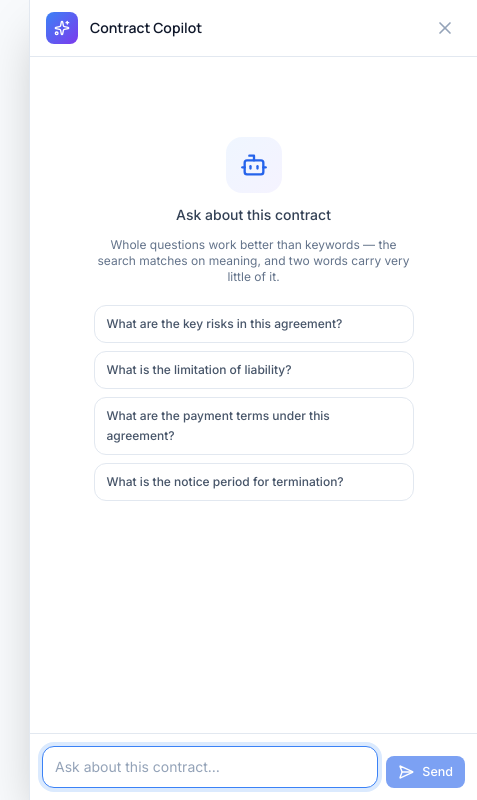
it: CopilotDrawer › renders a risk list as list items rather than a wall of text
Type "What are the key risks in this agreement?" into the text box named "your question" at (210, 767), box [42, 746, 378, 788]
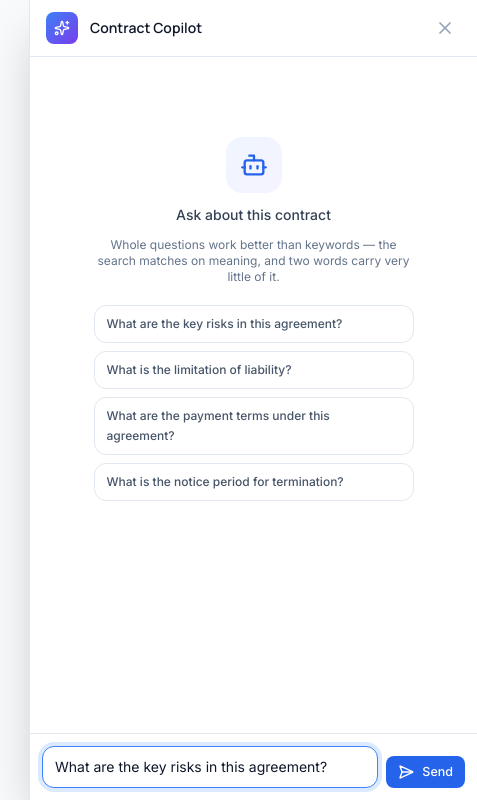
Click the button "Send" at (426, 772), box [386, 756, 465, 788]
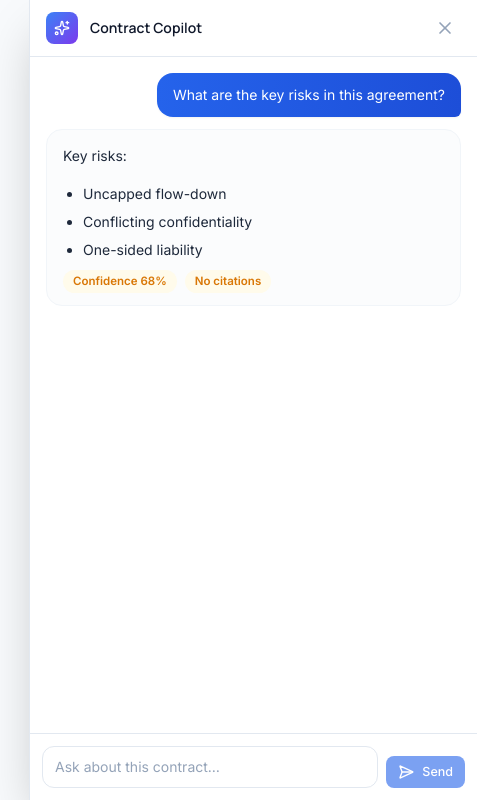
Check: the number of list items is 3, box [83, 185, 227, 202]; [83, 213, 252, 230]; [83, 241, 203, 258]
